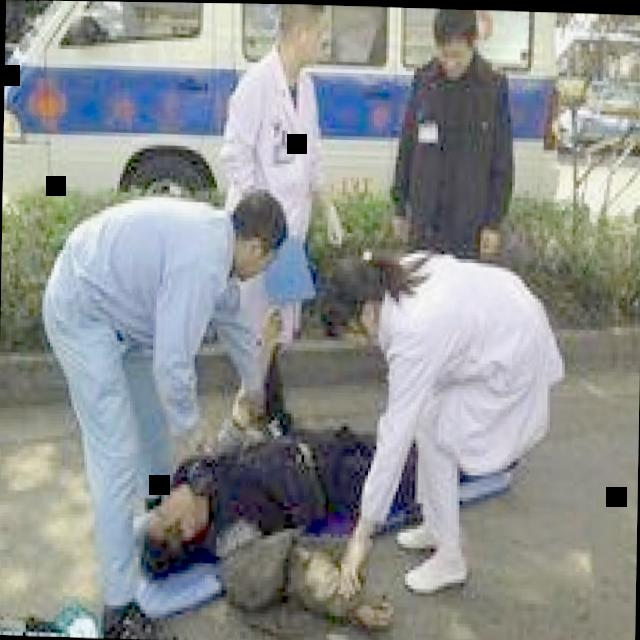Fall-Detected: (132, 363, 456, 625)
